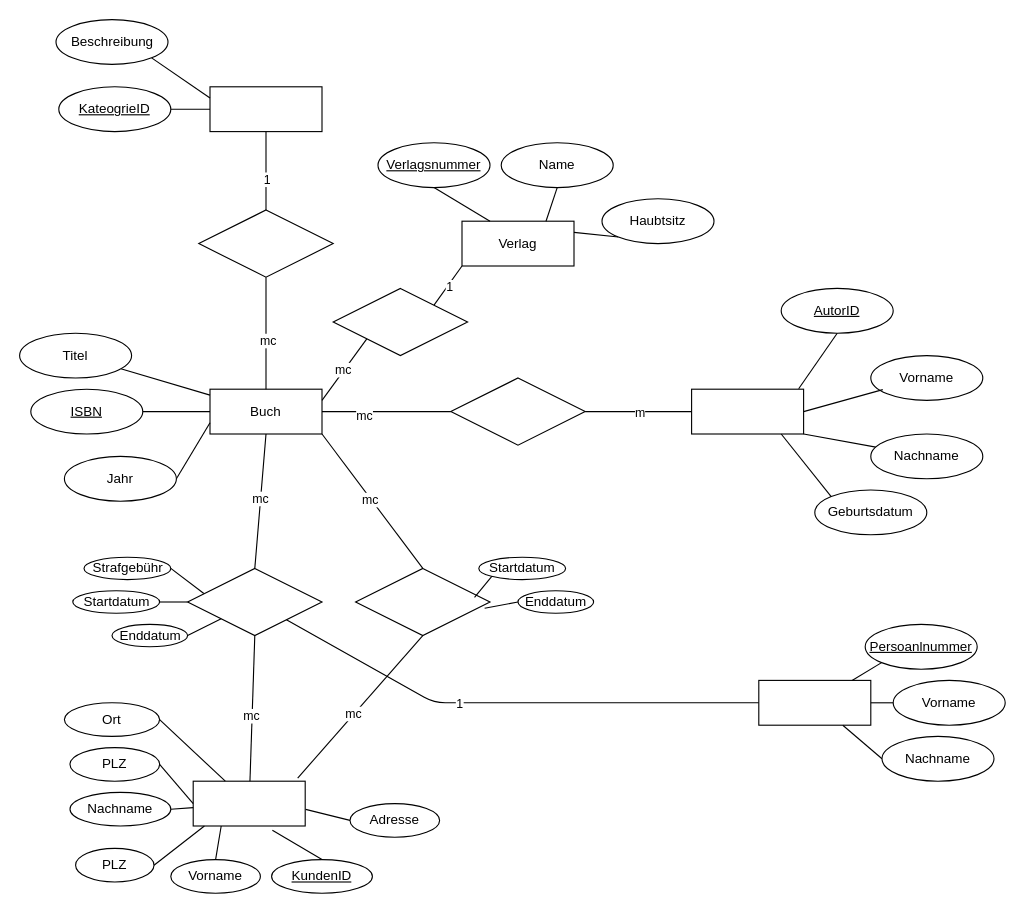
Image size: 1025x913. Some labels were removed from this diagram. The centre of each missing label's shape, as x and y in pixels:
"Autor" belongs at (747,411).
"gehört zu" belongs at (265,243).
"Kategorie" belongs at (265,109).
"Kunde" belongs at (248,803).
"leiht aus" belongs at (254,601).
"Mitarbeiter" belongs at (814,702).
"reserviert" belongs at (422,601).
"schreibt" belongs at (517,411).
"veröffentlicht" belongs at (400,321).
